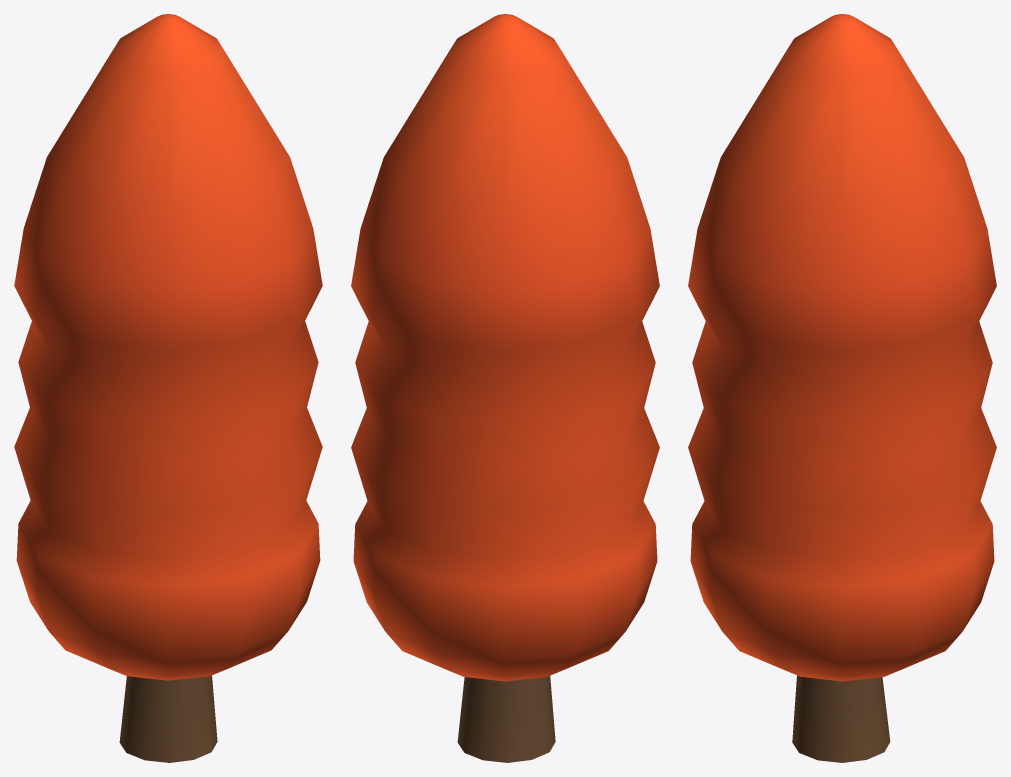
Rendered from tree-09.glb.
3 views of the same model, side by side, from view 1: azimuth 30°, elevation 25°; view 2: azimuth 150°, elevation 25°; view 3: azimuth 270°, elevation 25° (orthographic).
Parts seen in each view (by area): view 1: tree 09; view 2: tree 09; view 3: tree 09.
Part boxes in pixels (x1=…): tree 09: x1=14, y1=14, x2=322, y2=762; tree 09: x1=351, y1=14, x2=659, y2=762; tree 09: x1=688, y1=14, x2=996, y2=762.
Size of the model in its own units: 1.39 by 3.62 by 1.39.
Materials: 1 (1 with a texture image).
